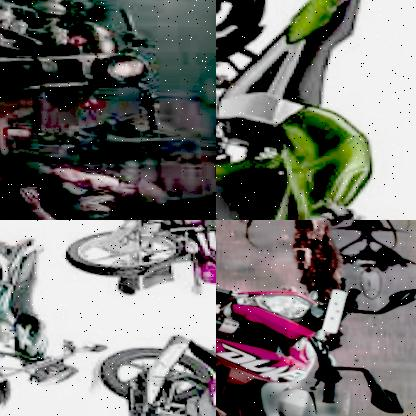bike: (216, 0, 415, 220), (216, 230, 416, 416), (0, 225, 82, 416), (75, 324, 216, 416), (61, 220, 216, 300)
